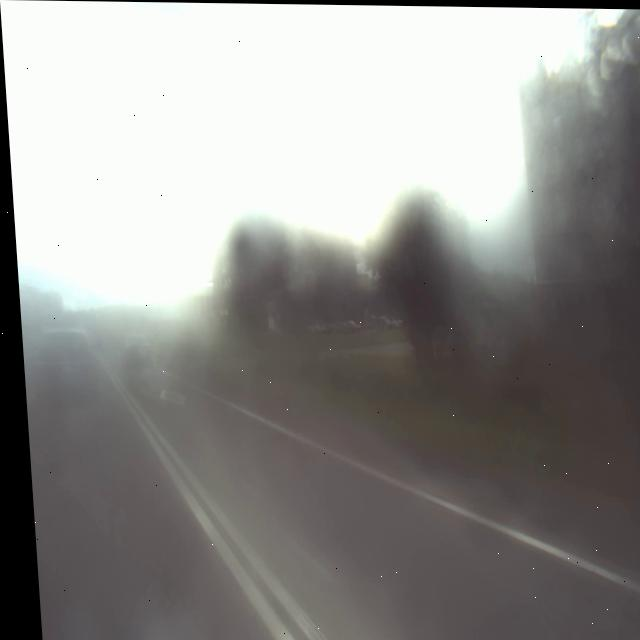car: (17, 306, 104, 421), (114, 321, 147, 374)
